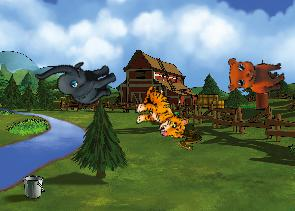bear: (223, 48, 287, 99)
elephant: (34, 39, 122, 122)
tiger: (130, 83, 195, 142)
